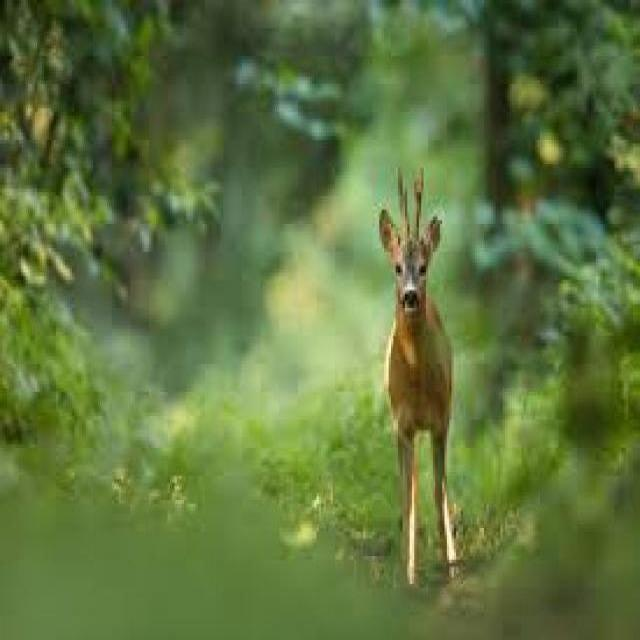deer: (372, 160, 478, 592)
